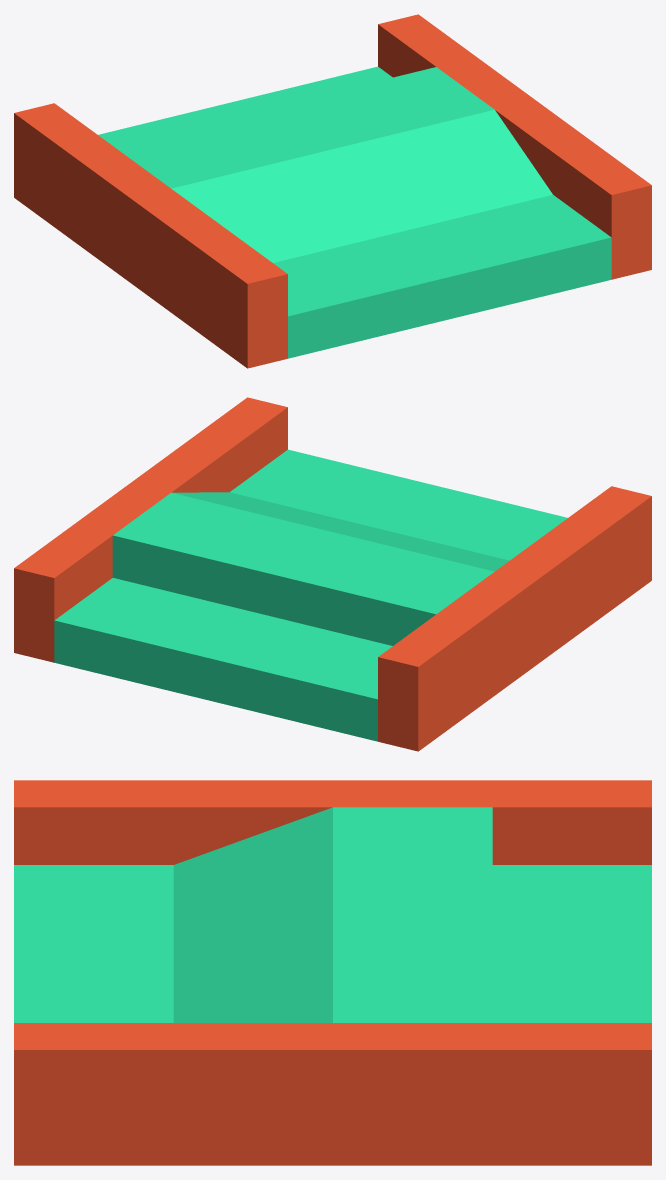
The model's file is track_6.fbx.
3 views of the same model, one above another, from view 1: azimuth 30°, elevation 25°; view 2: azimuth 150°, elevation 25°; view 3: azimuth 270°, elevation 25° (orthographic). The views are drawn at different scales.
Parts seen in each view (by area): view 1: straight_slope_block_15; view 2: straight_slope_block_15; view 3: straight_slope_block_15.
Boxes of the visible parts, box(x1,y1,x2,y2) form: straight_slope_block_15: box(14, 14, 651, 368); straight_slope_block_15: box(14, 397, 651, 751); straight_slope_block_15: box(14, 780, 651, 1165).
Bounding box in the file's own units: 10 × 2 × 10.
